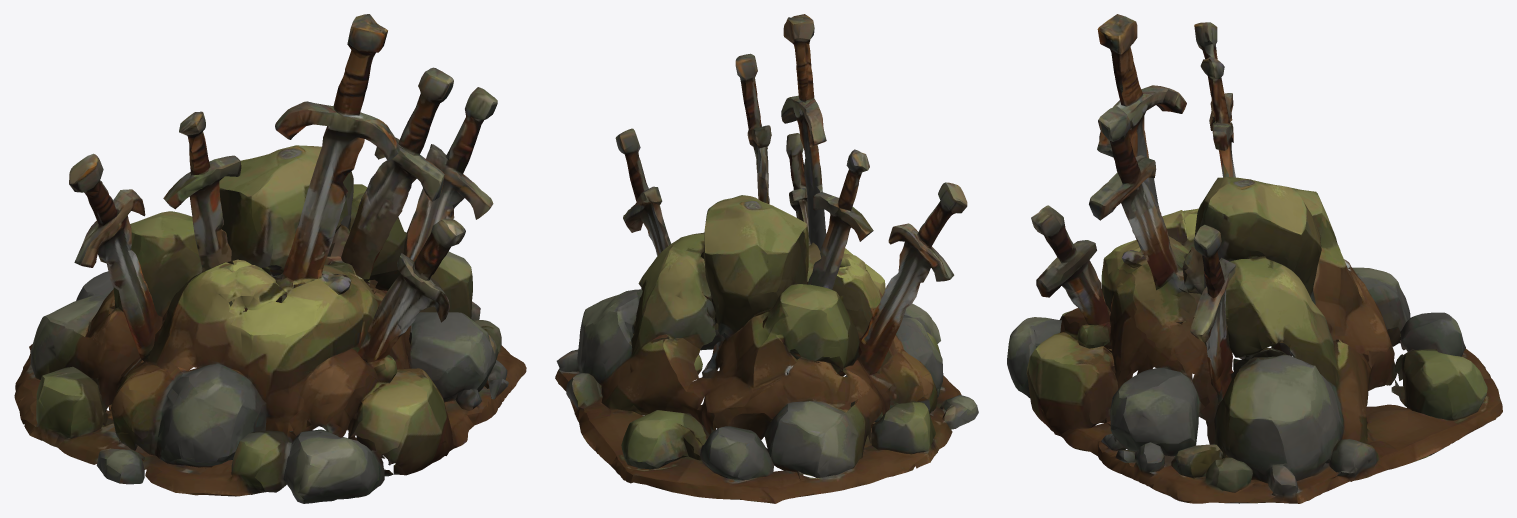
File: broken_sword_pile.glb
3 views of the same model, side by side, from view 1: azimuth 30°, elevation 25°; view 2: azimuth 150°, elevation 25°; view 3: azimuth 270°, elevation 25° (orthographic). The views are drawn at different scales.
Parts seen in each view (by area): view 1: broken_sword_pile; view 2: broken_sword_pile; view 3: broken_sword_pile.
Part boxes in pixels (x1,y1,x2,y2): broken_sword_pile: (14, 14, 526, 503); broken_sword_pile: (555, 14, 978, 503); broken_sword_pile: (1007, 14, 1502, 503).
Size of the model in its own units: 1.38 by 1.23 by 1.4.
Materials: 1 (1 with a texture image).
